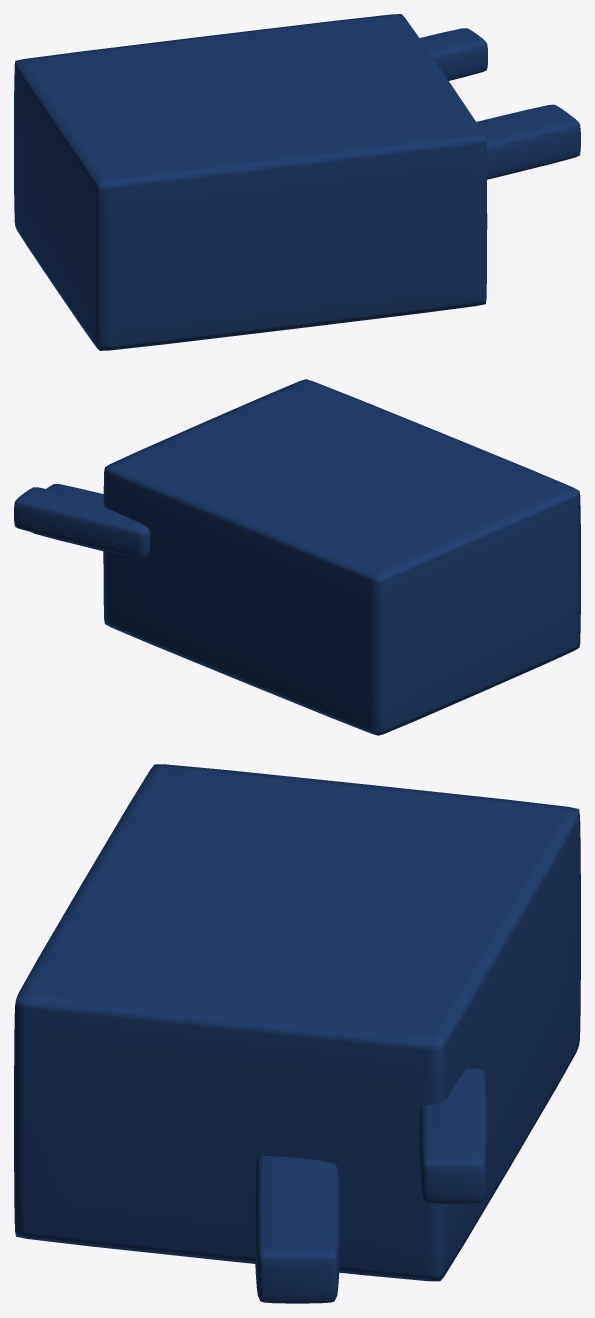
The model's file is mirror_r.glb.
The picture shows the model from 3 angles, top to bottom: view 1: azimuth 30°, elevation 25°; view 2: azimuth 150°, elevation 25°; view 3: azimuth 270°, elevation 25°; orthographic projection. The views are drawn at different scales.
Visible parts, largest first — view 1: GEO_Mirror_R; view 2: GEO_Mirror_R; view 3: GEO_Mirror_R.
Part boxes in pixels (x1,y1,x2,y2): GEO_Mirror_R: (14,14,580,350); GEO_Mirror_R: (14,379,580,735); GEO_Mirror_R: (14,764,580,1303).
Bounding box in the file's own units: 0.2203 × 0.0699 × 0.1452.
